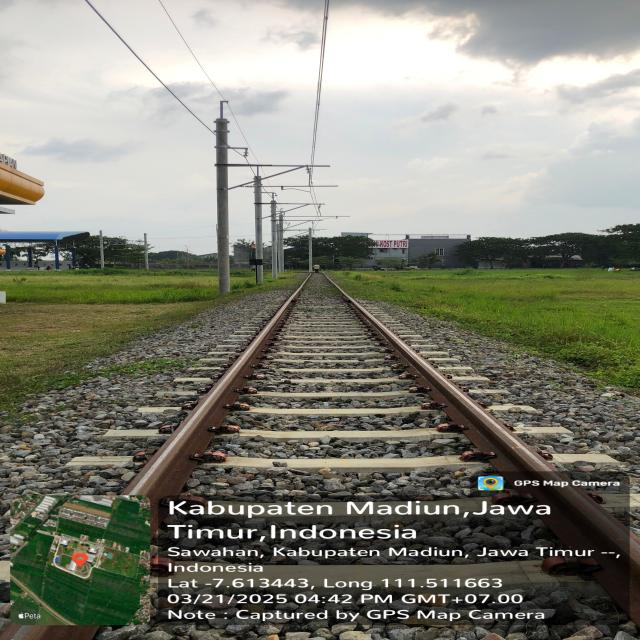rail-detection: (341, 290, 640, 625), (125, 288, 300, 526)
